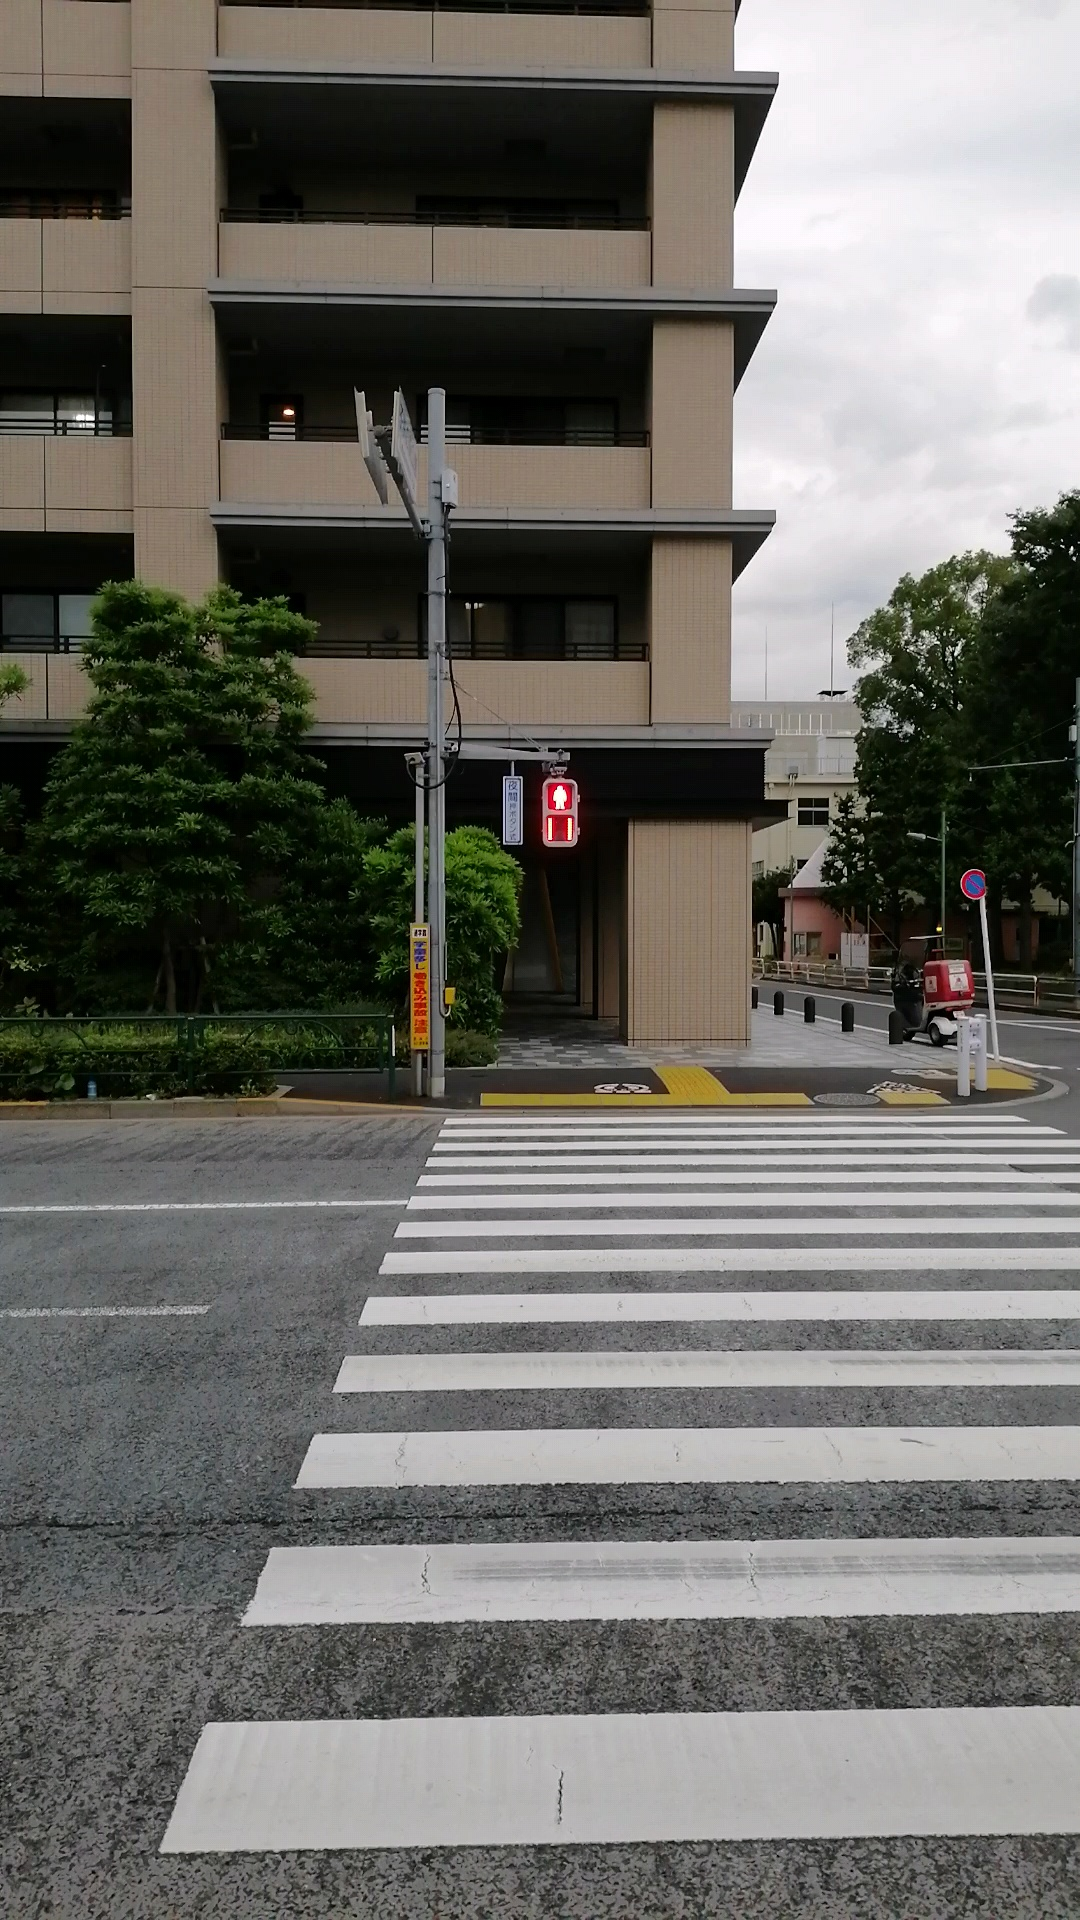red: (542, 778, 578, 848)
